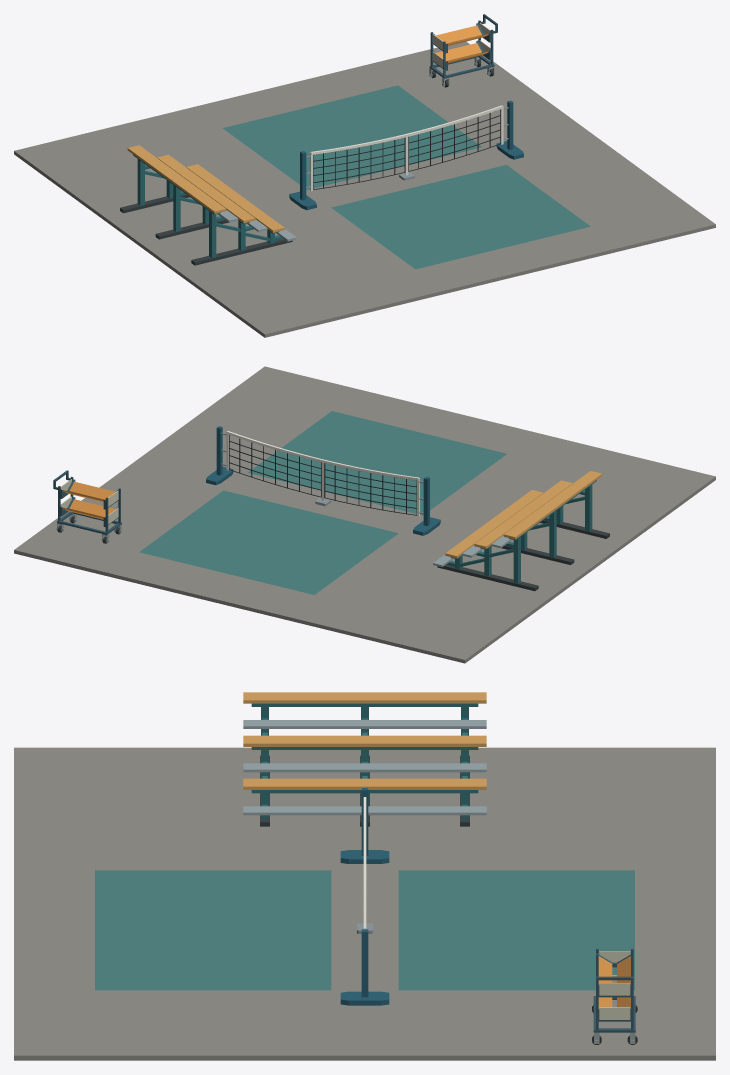
3 renders of one model, top to bottom at view 1: azimuth 30°, elevation 25°; view 2: azimuth 150°, elevation 25°; view 3: azimuth 270°, elevation 25°, orthographic. The views are drawn at different scales.
Visible parts, largest first — view 1: SCENE_ONLY__ContinuousTwoZoneFloor, net__Net_ContinuousSaggingPerforatedMesh, bleachers__Row_2_SeatBoard, bleachers__Row_0_SeatBoard, bleachers__Row_1_SeatBoard, net__Band_ContinuousSaggingTopRibbon, bleachers__Frame_0_GroundRunner; view 2: SCENE_ONLY__ContinuousTwoZoneFloor, net__Net_ContinuousSaggingPerforatedMesh, bleachers__Row_2_SeatBoard, bleachers__Row_0_SeatBoard, bleachers__Row_1_SeatBoard, net__Band_ContinuousSaggingTopRibbon, bleachers__Frame_2_GroundRunner; view 3: SCENE_ONLY__ContinuousTwoZoneFloor, bleachers__Row_1_SeatBoard, bleachers__Row_2_SeatBoard, bleachers__Row_0_SeatBoard, bleachers__Row_1_Footboard, bleachers__Row_0_Footboard, bleachers__Row_2_Footboard, bleachers__Row_2_ContinuousSeatBeam, bleachers__Row_0_ContinuousSeatBeam, bleachers__Row_1_ContinuousSeatBeam, net__Foot_Right, net__Foot_Left.
Part boxes in pixels (x1=…): SCENE_ONLY__ContinuousTwoZoneFloor: x1=14, y1=41, x2=715, y2=337; net__Net_ContinuousSaggingPerforatedMesh: x1=313, y1=109, x2=500, y2=189; bleachers__Row_2_SeatBoard: x1=127, y1=145, x2=226, y2=213; bleachers__Row_0_SeatBoard: x1=186, y1=164, x2=284, y2=232; bleachers__Row_1_SeatBoard: x1=157, y1=154, x2=255, y2=223; net__Band_ContinuousSaggingTopRibbon: x1=310, y1=105, x2=502, y2=154; bleachers__Frame_0_GroundRunner: x1=191, y1=239, x2=292, y2=265; SCENE_ONLY__ContinuousTwoZoneFloor: x1=14, y1=366, x2=715, y2=663; net__Net_ContinuousSaggingPerforatedMesh: x1=229, y1=435, x2=416, y2=515; bleachers__Row_2_SeatBoard: x1=503, y1=471, x2=602, y2=539; bleachers__Row_0_SeatBoard: x1=445, y1=490, x2=543, y2=558; bleachers__Row_1_SeatBoard: x1=474, y1=480, x2=572, y2=548; net__Band_ContinuousSaggingTopRibbon: x1=227, y1=431, x2=419, y2=480; bleachers__Frame_2_GroundRunner: x1=437, y1=564, x2=538, y2=591; SCENE_ONLY__ContinuousTwoZoneFloor: x1=14, y1=747, x2=715, y2=1060; bleachers__Row_1_SeatBoard: x1=243, y1=735, x2=486, y2=746; bleachers__Row_2_SeatBoard: x1=243, y1=692, x2=486, y2=703; bleachers__Row_0_SeatBoard: x1=243, y1=778, x2=486, y2=789; bleachers__Row_1_Footboard: x1=243, y1=763, x2=486, y2=772; bleachers__Row_0_Footboard: x1=243, y1=806, x2=486, y2=815; bleachers__Row_2_Footboard: x1=243, y1=720, x2=486, y2=728; bleachers__Row_2_ContinuousSeatBeam: x1=251, y1=703, x2=478, y2=706; bleachers__Row_0_ContinuousSeatBeam: x1=251, y1=790, x2=478, y2=793; bleachers__Row_1_ContinuousSeatBeam: x1=251, y1=747, x2=478, y2=749; net__Foot_Right: x1=340, y1=991, x2=389, y2=1005; net__Foot_Left: x1=340, y1=850, x2=389, y2=863.
Bounding box in the file's own units: 10.8 × 1.34 × 10.4.
